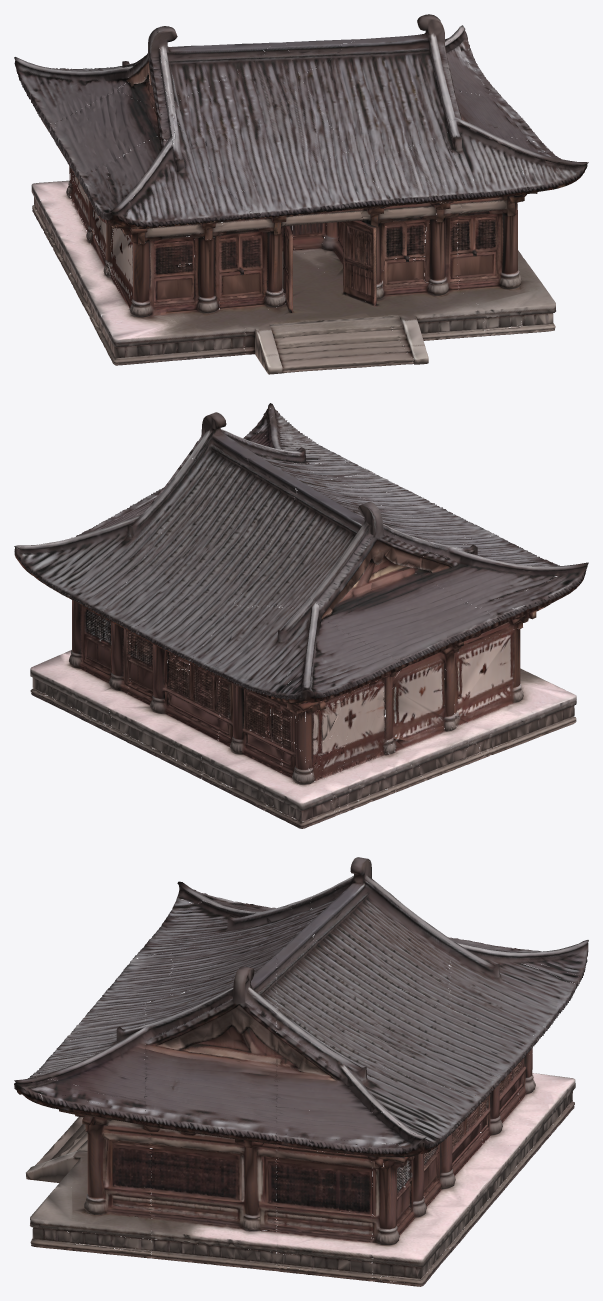
File: hi3d-temple.glb
3 views of the same model, one above another, from view 1: azimuth 30°, elevation 25°; view 2: azimuth 150°, elevation 25°; view 3: azimuth 270°, elevation 25° (orthographic). The views are drawn at different scales.
Visible parts, largest first — view 1: temple; view 2: temple; view 3: temple.
Part boxes in pixels (<box>): temple: <box>14,14,588,374</box>; temple: <box>14,403,588,828</box>; temple: <box>14,857,588,1286</box>.
Size of the model in its own units: 11.85 by 6 by 11.83.
Materials: 1 (1 with a texture image).
